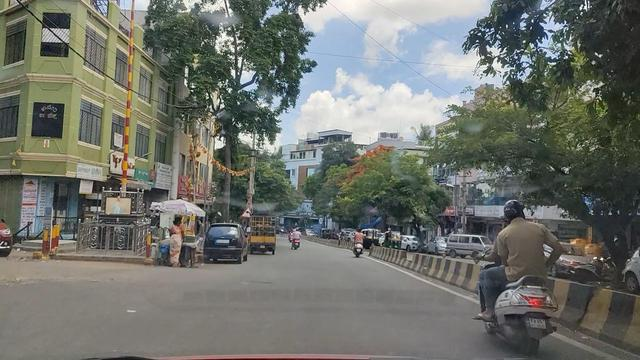LMV: (483, 207, 561, 354), (206, 221, 244, 263)
